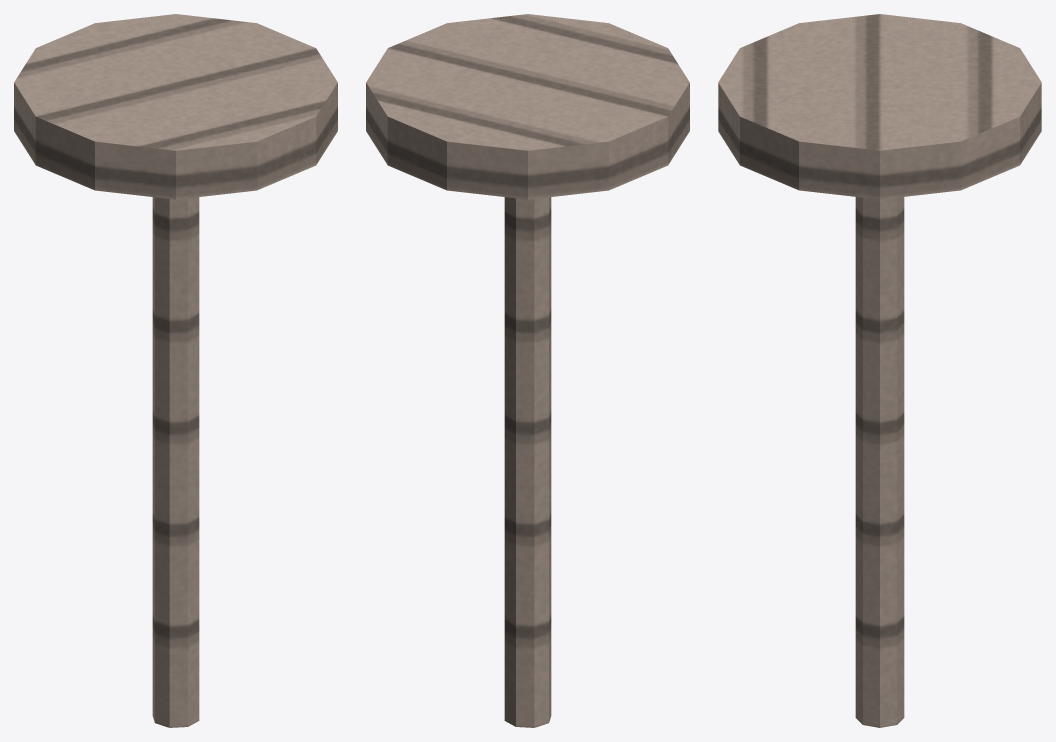
The model's file is bar_counter_stool.glb.
3 renders of one model, left to right at view 1: azimuth 30°, elevation 25°; view 2: azimuth 150°, elevation 25°; view 3: azimuth 270°, elevation 25°, orthographic.
Visible parts, largest first — view 1: bar_counter_stool-col; view 2: bar_counter_stool-col; view 3: bar_counter_stool-col.
Part boxes in pixels (x1,y1,x2,y2): bar_counter_stool-col: (14, 14, 337, 727); bar_counter_stool-col: (366, 14, 689, 727); bar_counter_stool-col: (718, 14, 1041, 727).
Bounding box in the file's own units: 0.36 × 0.78 × 0.36.
1 material, 1 textured.
